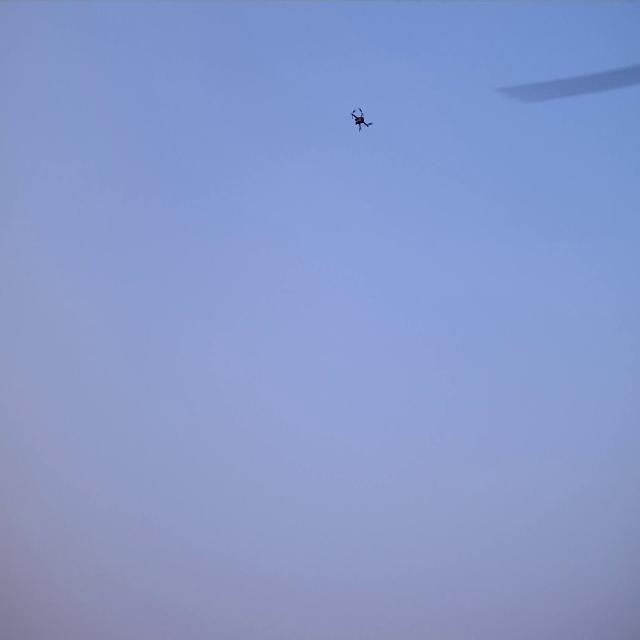UAV: (352, 109, 371, 131)
